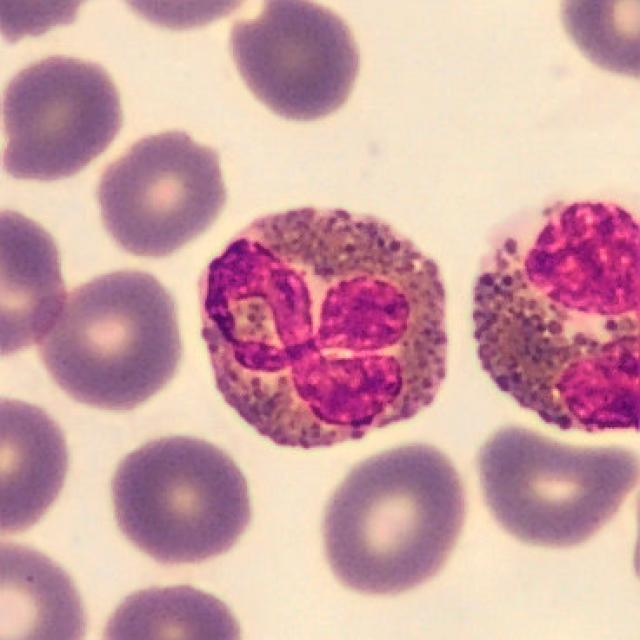Eosinofilo: (198, 206, 449, 451), (473, 199, 640, 441)
